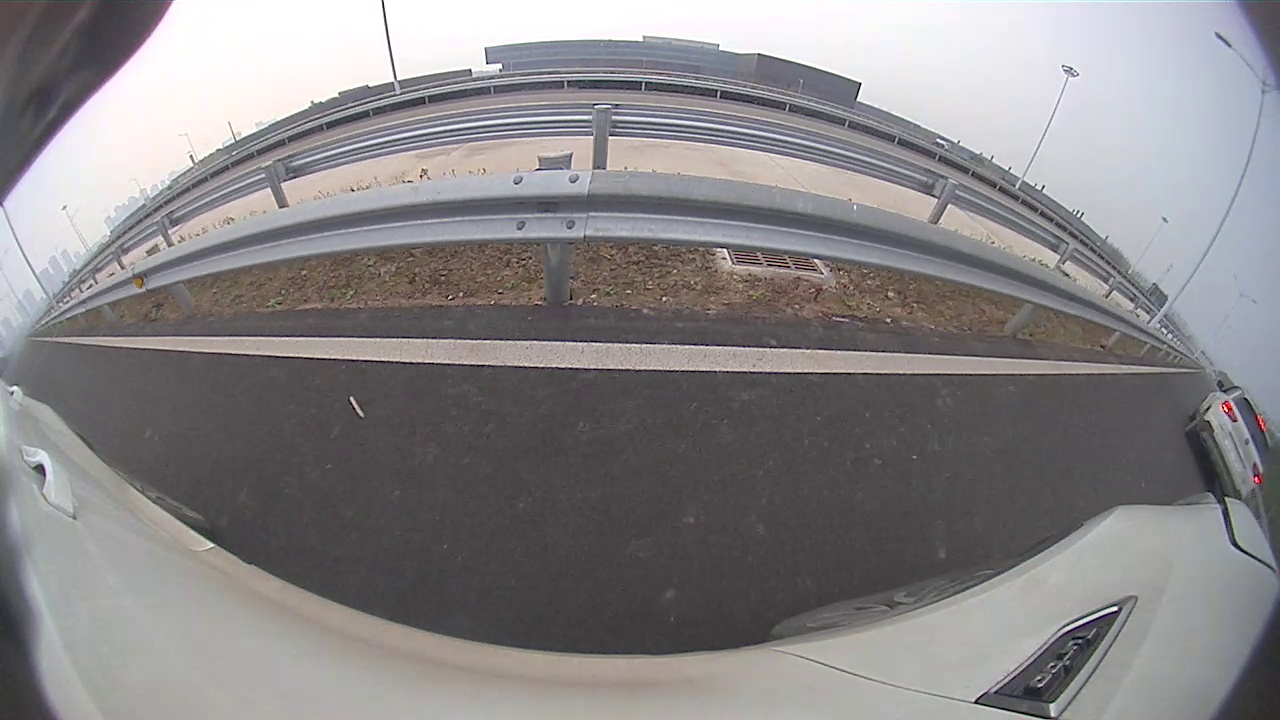car: (1184, 379, 1272, 501)
